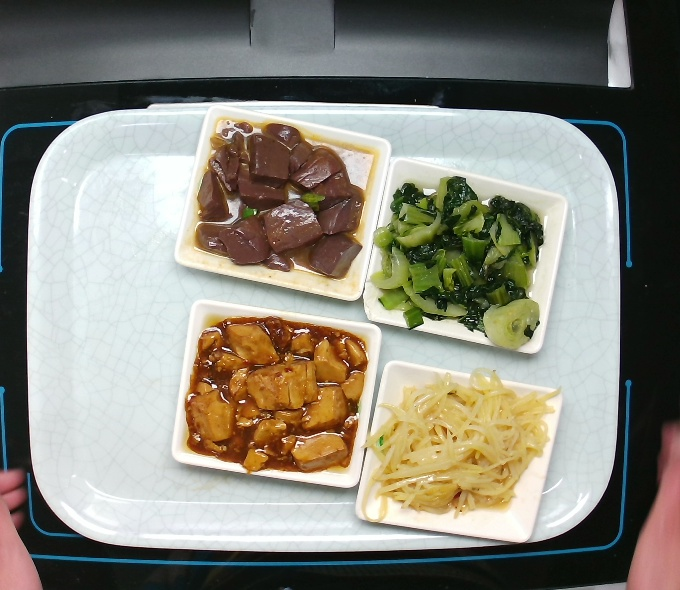wcq-MaPoDouFu: (186, 314, 367, 477)
wcq-NiuXue: (191, 120, 375, 283)
wcq-TuDouSi: (348, 361, 569, 528)
wcq-YouDongCai: (372, 173, 551, 352)
